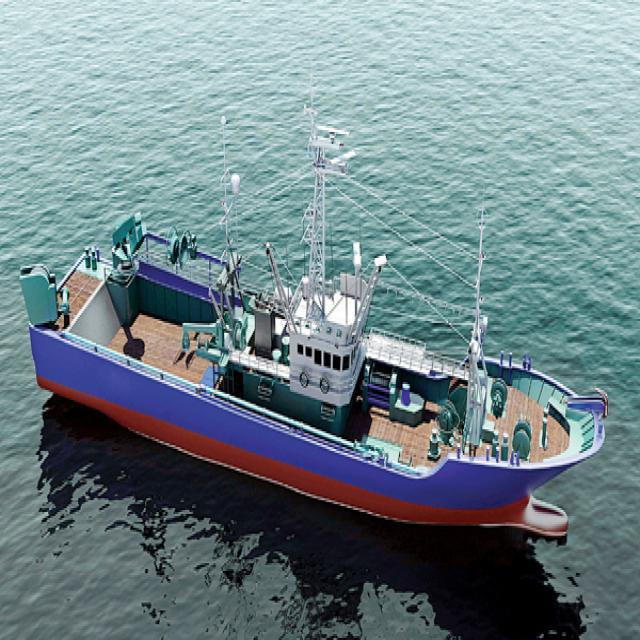Ship: (14, 72, 613, 555)
